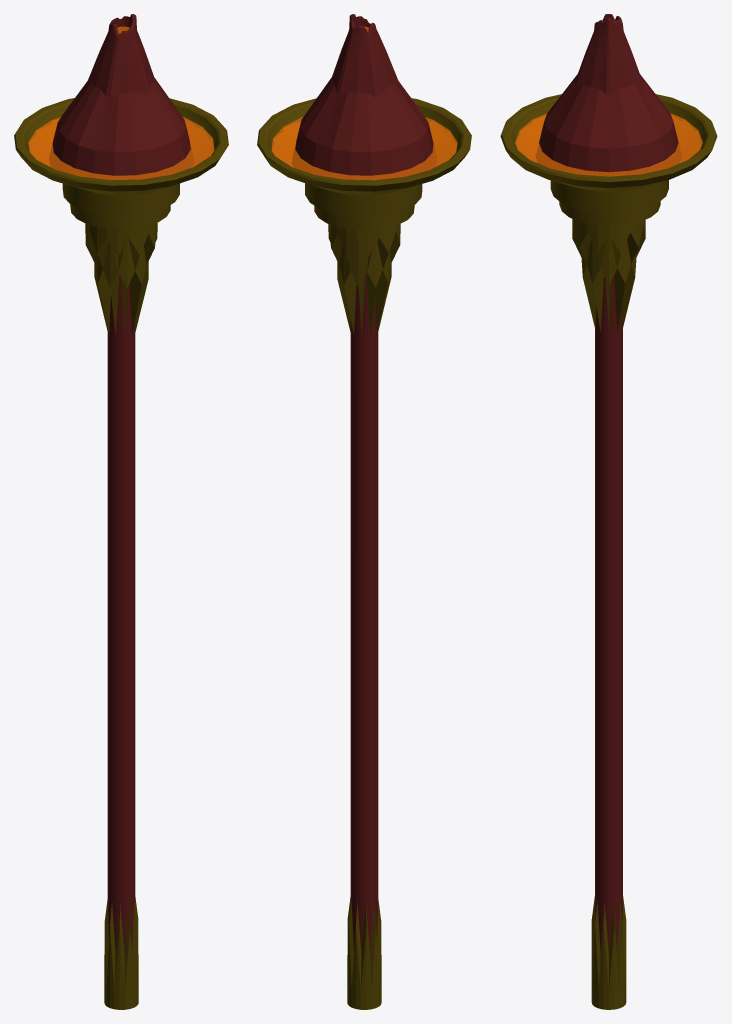
The model's file is Volcano Staff.fbx.
3 renders of one model, left to right at view 1: azimuth 30°, elevation 25°; view 2: azimuth 150°, elevation 25°; view 3: azimuth 270°, elevation 25°, orthographic.
Visible parts, largest first — view 1: pCylinder11, pPipe11, pCylinder14, pPipe12, pPipe13; view 2: pCylinder11, pPipe11, pCylinder14, pPipe12, pPipe13; view 3: pCylinder11, pPipe11, pCylinder14, pPipe12, pPipe13.
Boxes of the visible parts, bbox=[...] form: pCylinder11: bbox=[14, 98, 228, 1009]; pPipe11: bbox=[49, 14, 193, 179]; pCylinder14: bbox=[28, 117, 214, 179]; pPipe12: bbox=[62, 183, 179, 216]; pPipe13: bbox=[70, 204, 170, 229]; pCylinder11: bbox=[257, 98, 471, 1009]; pPipe11: bbox=[292, 14, 436, 179]; pCylinder14: bbox=[271, 117, 457, 180]; pPipe12: bbox=[305, 183, 422, 217]; pPipe13: bbox=[314, 205, 414, 230]; pCylinder11: bbox=[500, 94, 717, 1009]; pPipe11: bbox=[536, 14, 681, 176]; pCylinder14: bbox=[515, 113, 702, 176]; pPipe12: bbox=[550, 180, 668, 213]; pPipe13: bbox=[559, 201, 660, 225].
Size of the model in its own units: 1.99 by 10 by 1.99.
